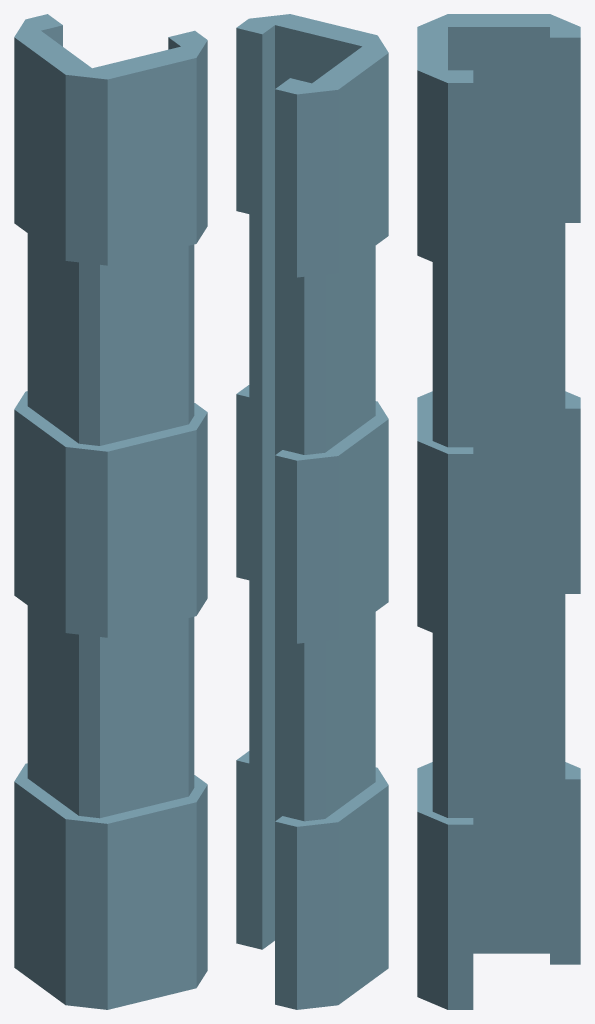
The model's file is wallCornerDetail.fbx.
3 renders of one model, left to right at view 1: azimuth 30°, elevation 25°; view 2: azimuth 150°, elevation 25°; view 3: azimuth 270°, elevation 25°, orthographic.
Parts seen in each view (by area): view 1: wallCornerDetail; view 2: wallCornerDetail; view 3: wallCornerDetail.
Part boxes in pixels (x1,y1,x2,y2): wallCornerDetail: (14,14,207,1009); wallCornerDetail: (236,14,388,1009); wallCornerDetail: (417,14,580,1009).
Size of the model in its own units: 1.6 by 10 by 1.6.
